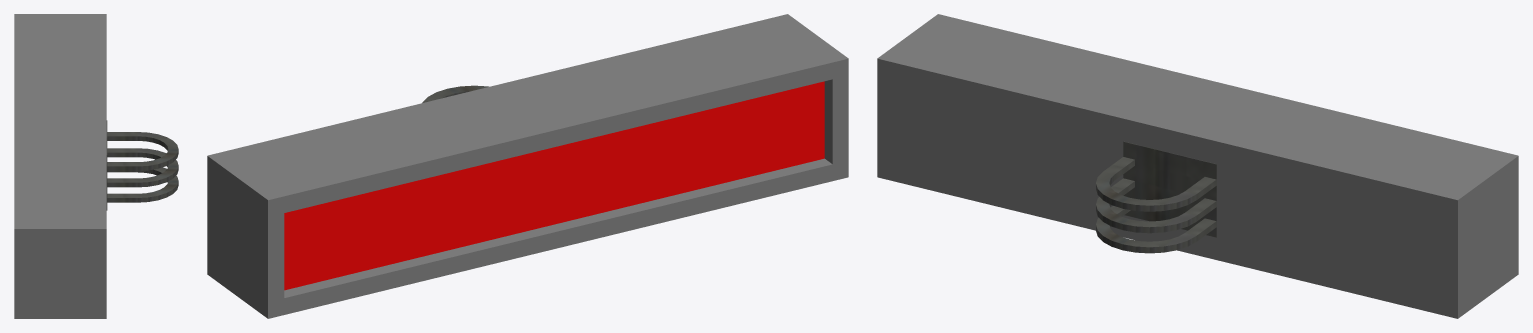
File: display-mensagens.glb
3 views of the same model, side by side, from view 1: azimuth 30°, elevation 25°; view 2: azimuth 150°, elevation 25°; view 3: azimuth 270°, elevation 25° (orthographic). The views are drawn at different scales.
Visible parts, largest first — view 1: Componente_10_1, Al_a1, Al_a3, Al_a2, Componente_1_1; view 2: Componente_10_1; view 3: Componente_10_1, Componente_1_1, Al_a1, Al_a3, Al_a2.
Boxes of the visible parts, <box> form: Componente_10_1: <box>14,14,106,318</box>; Al_a1: <box>107,132,178,170</box>; Al_a3: <box>107,148,178,187</box>; Al_a2: <box>107,167,178,202</box>; Componente_1_1: <box>106,120,107,210</box>; Componente_10_1: <box>207,14,848,318</box>; Componente_10_1: <box>877,14,1518,318</box>; Componente_1_1: <box>1123,141,1216,237</box>; Al_a1: <box>1096,157,1216,211</box>; Al_a3: <box>1096,178,1216,233</box>; Al_a2: <box>1096,206,1216,253</box>.
Size of the model in its own units: 0.655 by 0.1947 by 0.9534.
3 materials, 1 textured.
